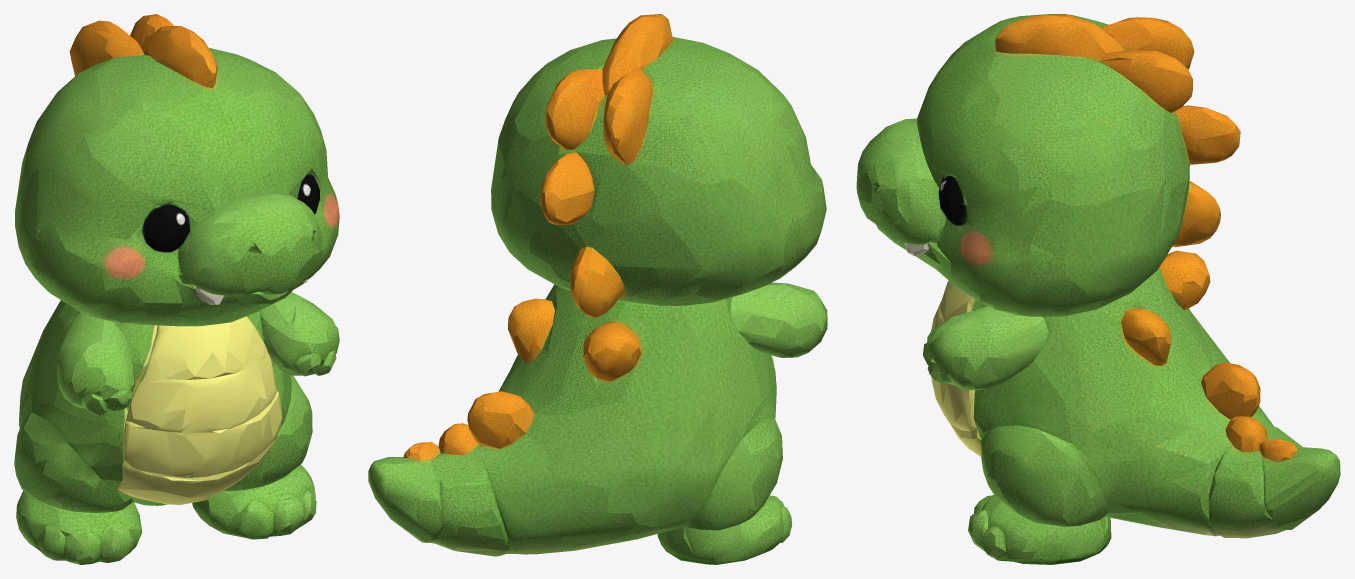
File: ting-dino.glb
The picture shows the model from 3 angles, left to right: view 1: azimuth 30°, elevation 25°; view 2: azimuth 150°, elevation 25°; view 3: azimuth 270°, elevation 25°; orthographic projection.
Bounding box in the file's own units: 1.2 × 1.9 × 1.67.
1 material, 1 textured.
